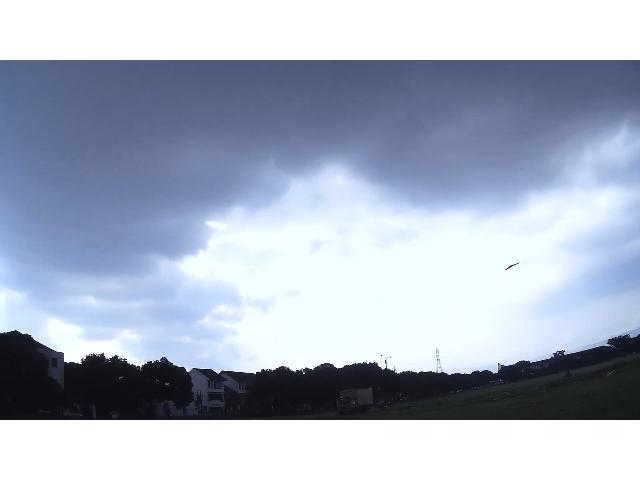Anti-Drone: (505, 263, 521, 269)
